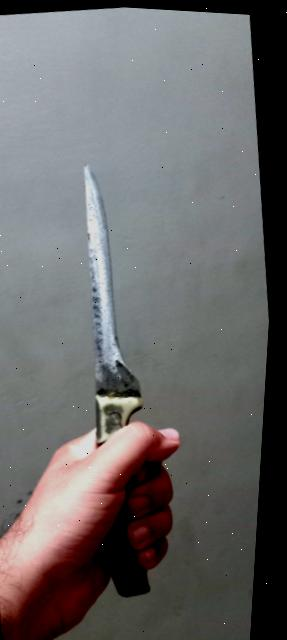long knife: (46, 127, 203, 609)
